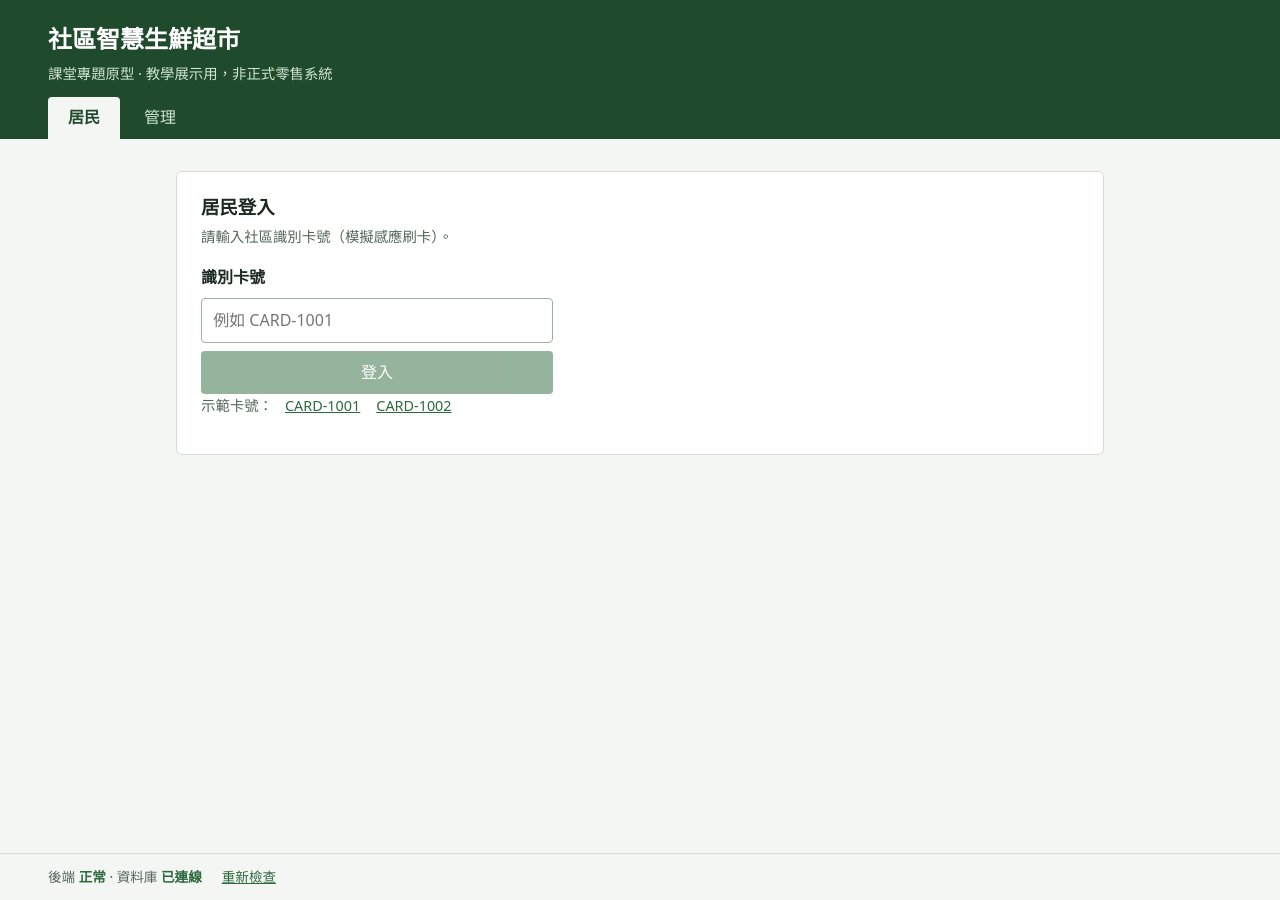
shows loading indicators while data is on its way, then the content
Later steps or results of the test are not shown.
In the field labelled "識別卡號": point(377, 321) [201,298,553,343], type "CARD-1001"
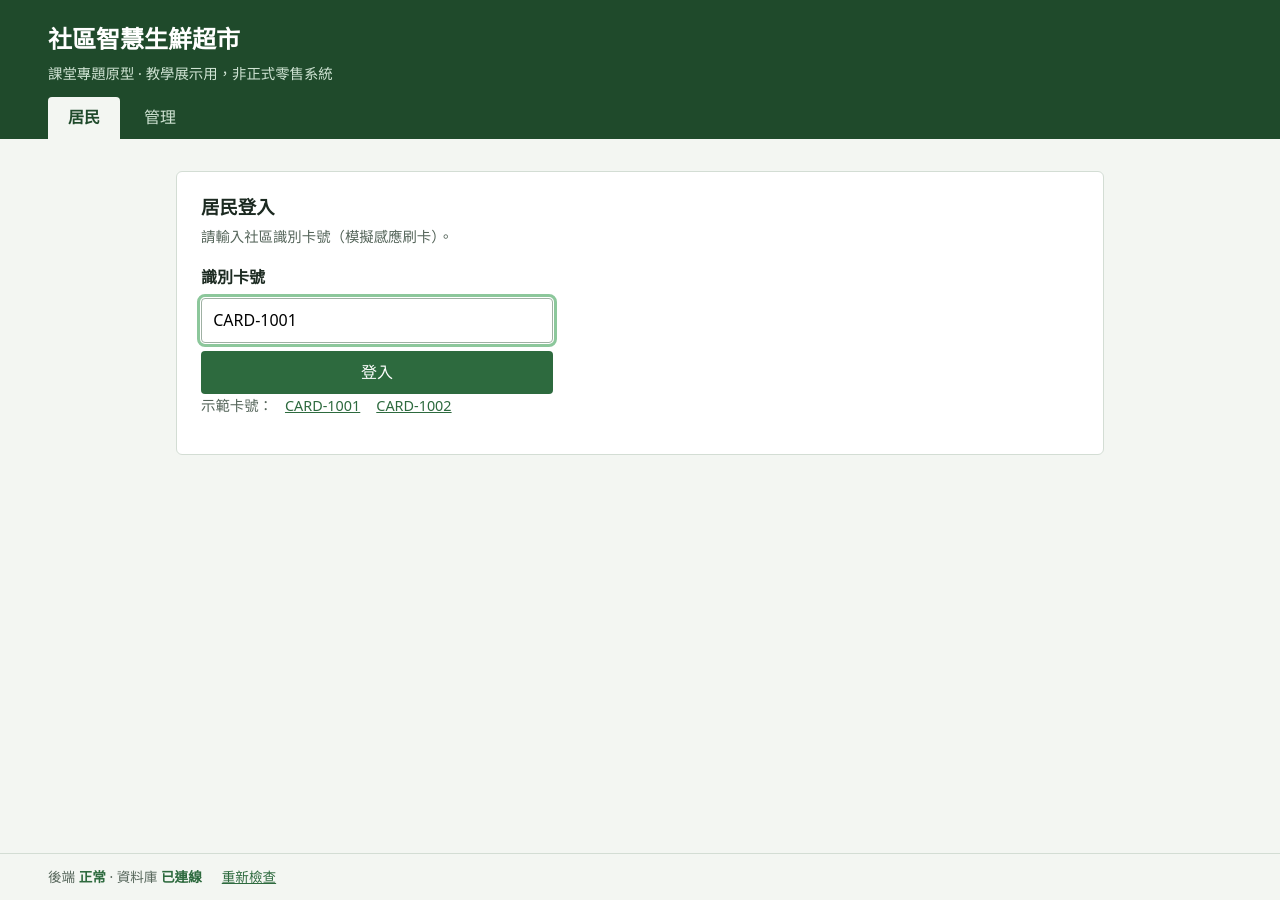
Click the button "登入": point(377, 373) [201,351,553,394]
(page scrolled)
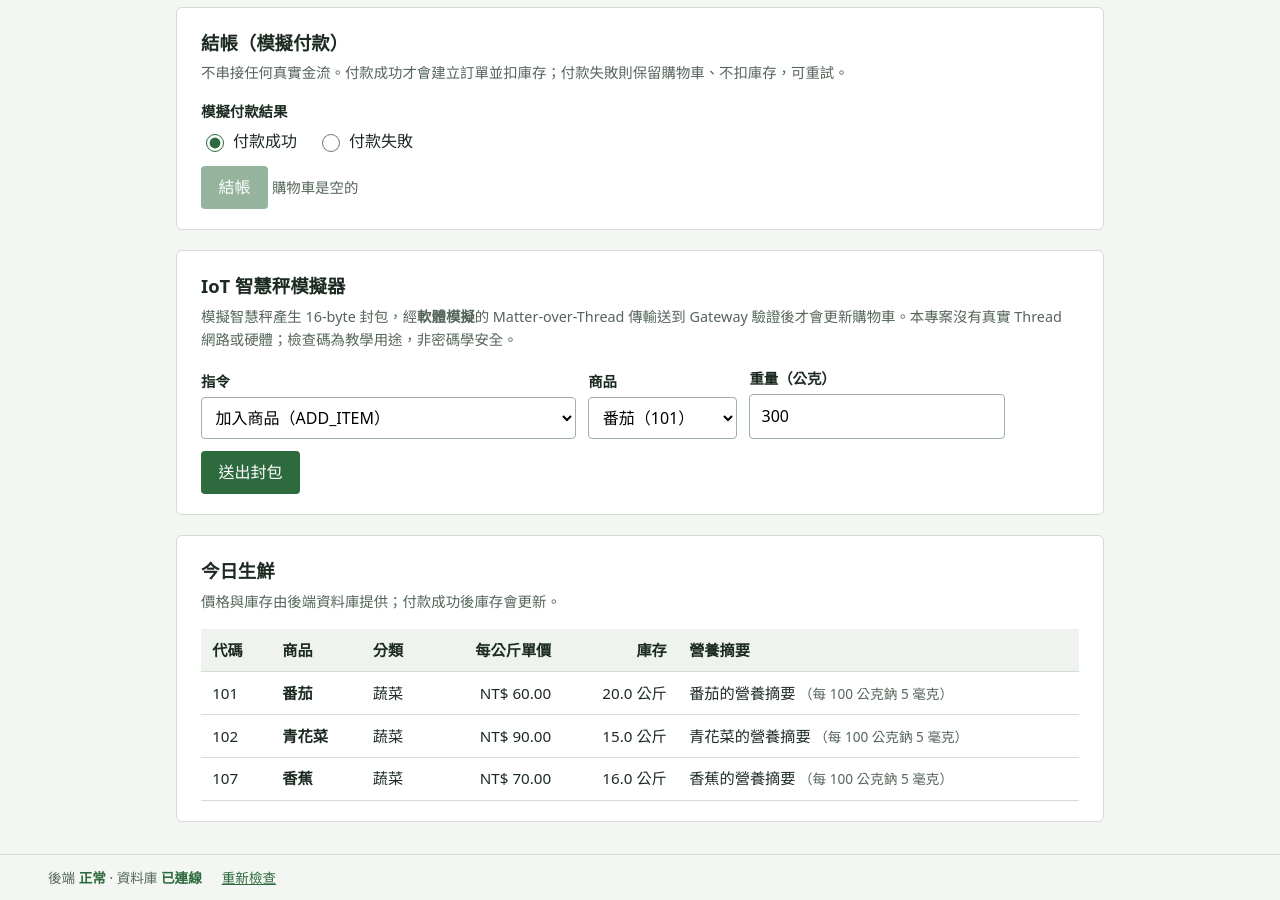
Expected: the table named "可購買的生鮮商品" is shown, [201,629,1079,800]
